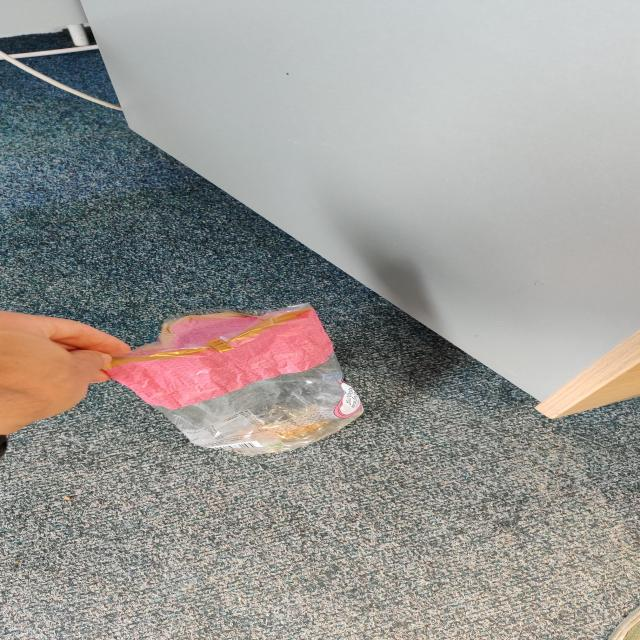litter: (102, 303, 365, 456)
